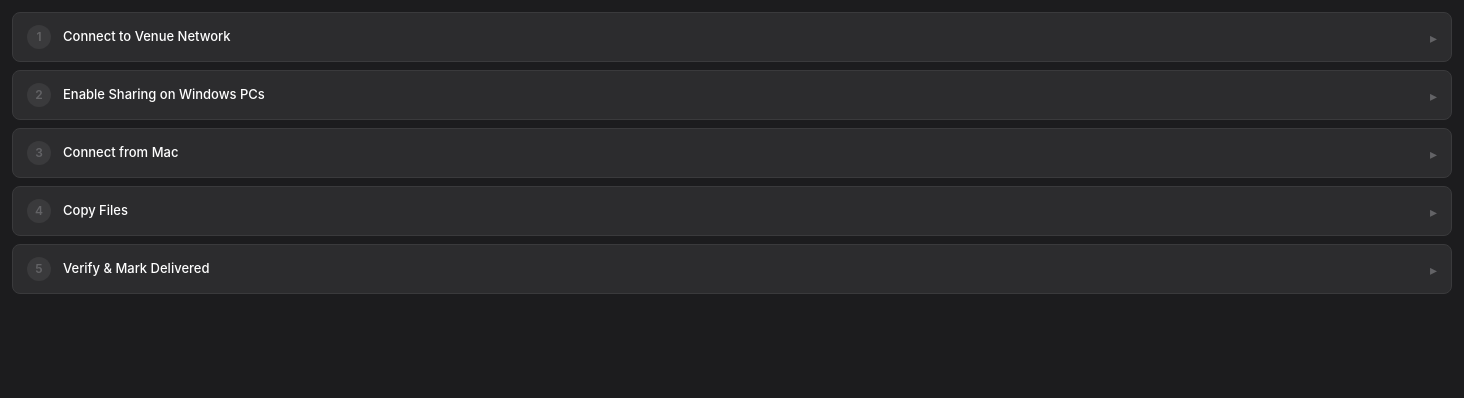
Test: collapses an expanded step when clicked again
What coordinates should you click on to do the following:
click the text "Connect to Venue Network"
I would click on:
 (147, 36)
Its box is left=63, top=28, right=231, bottom=44.
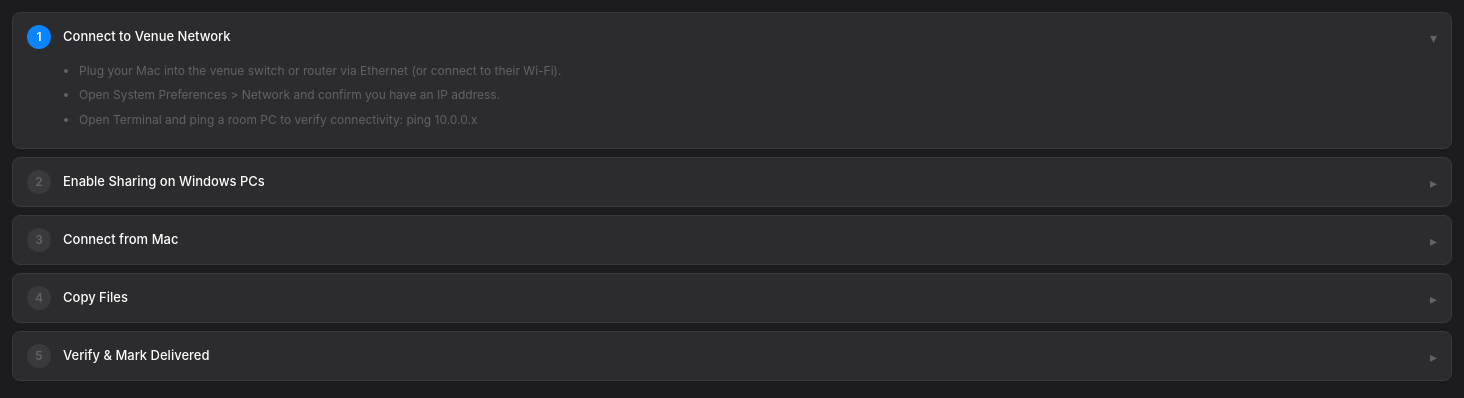
Expected: the list item "System Preferences" is shown, left=79, top=87, right=500, bottom=102
What coordinates should you click on to do the following:
click the text "Connect to Venue Network"
I would click on:
 (147, 36)
Its box is left=63, top=28, right=231, bottom=44.
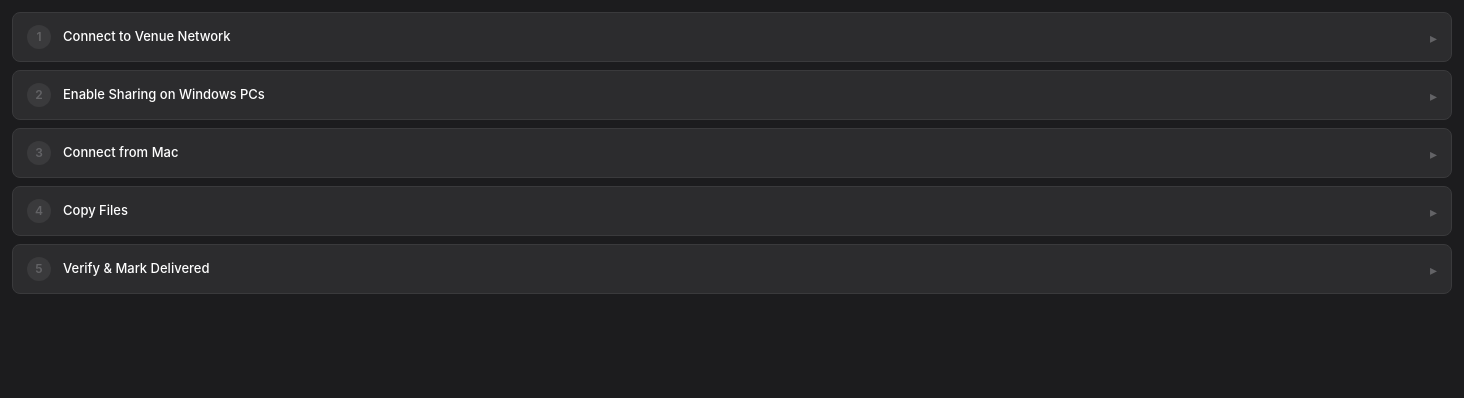
Expected: the list item "System Preferences" is gone
